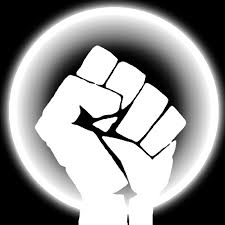fist: (49, 67, 182, 192)
